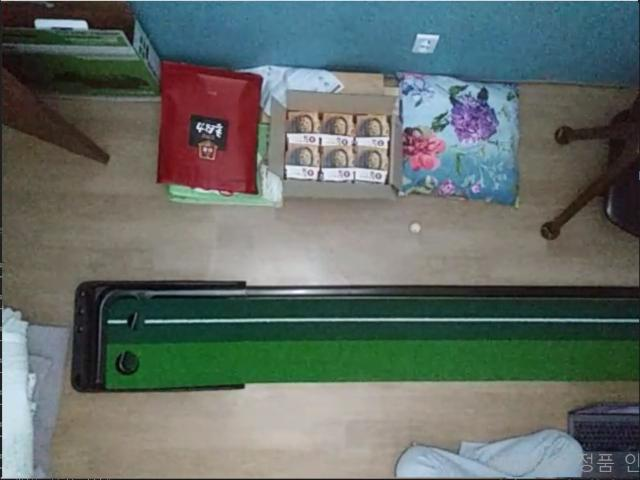golf_ball: (409, 221, 423, 235)
green_zone: (104, 298, 639, 388)
hole: (115, 350, 140, 376), (127, 311, 145, 331)
